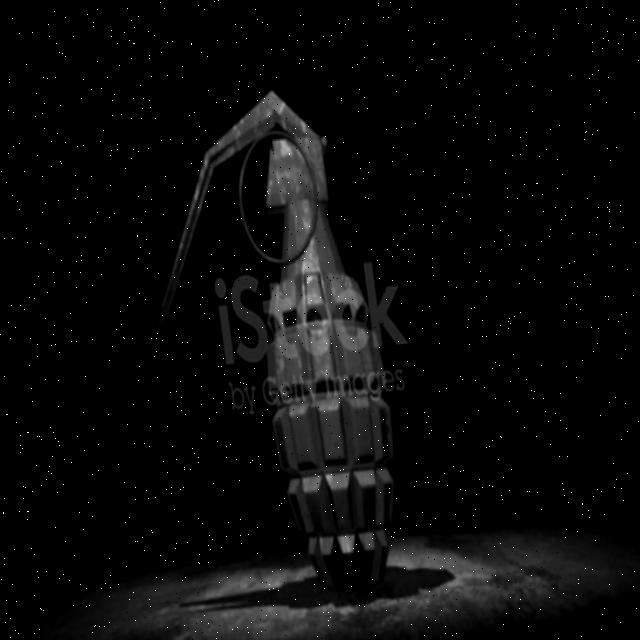grenade: (132, 78, 413, 605)
